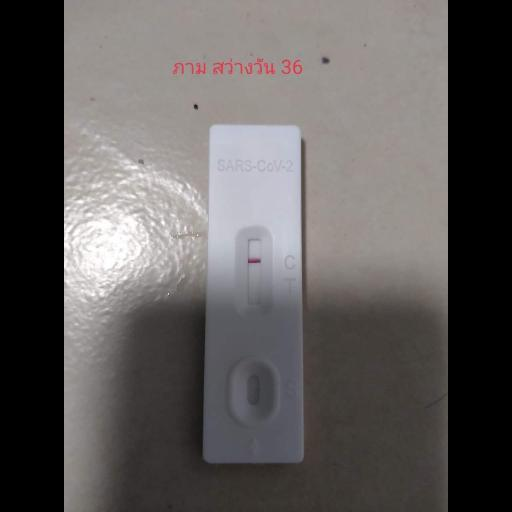Neg: (208, 124, 302, 464)
